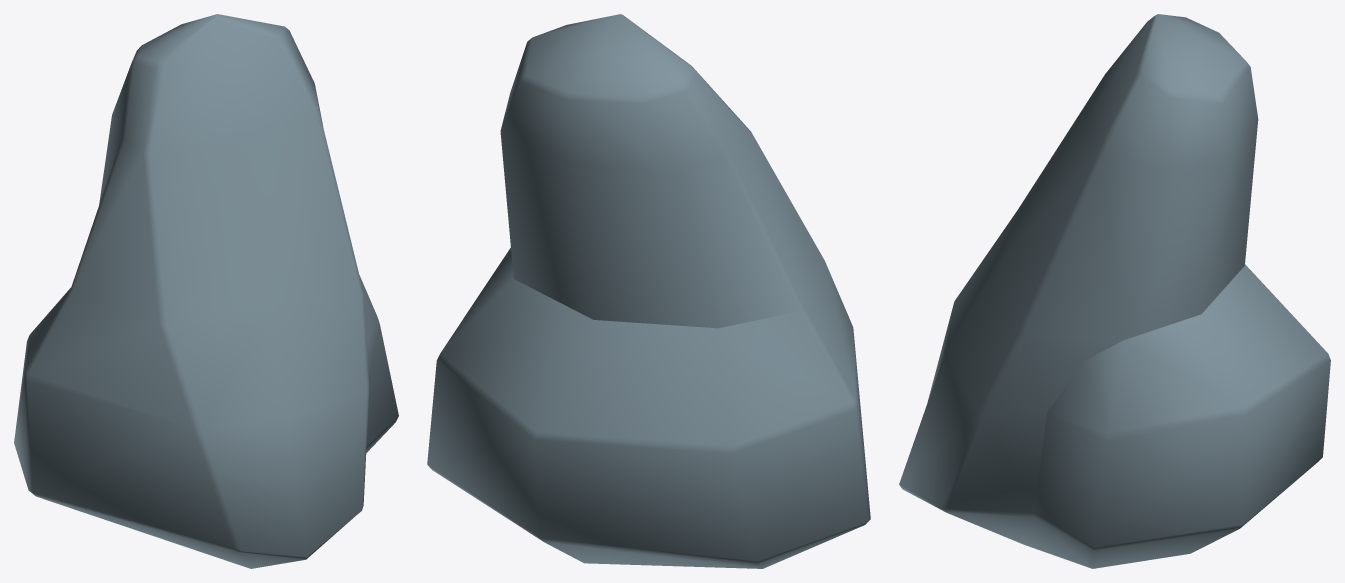
File: Stone_4.fbx
The picture shows the model from 3 angles, left to right: view 1: azimuth 30°, elevation 25°; view 2: azimuth 150°, elevation 25°; view 3: azimuth 270°, elevation 25°; orthographic projection. The views are drawn at different scales.
Visible parts, largest first — view 1: Rocks_4; view 2: Rocks_4; view 3: Rocks_4.
Boxes of the visible parts, bbox=[...] form: Rocks_4: bbox=[14, 14, 398, 568]; Rocks_4: bbox=[427, 14, 870, 568]; Rocks_4: bbox=[899, 14, 1330, 568].
Bounding box in the file's own units: 15.94 × 20.46 × 15.4.
